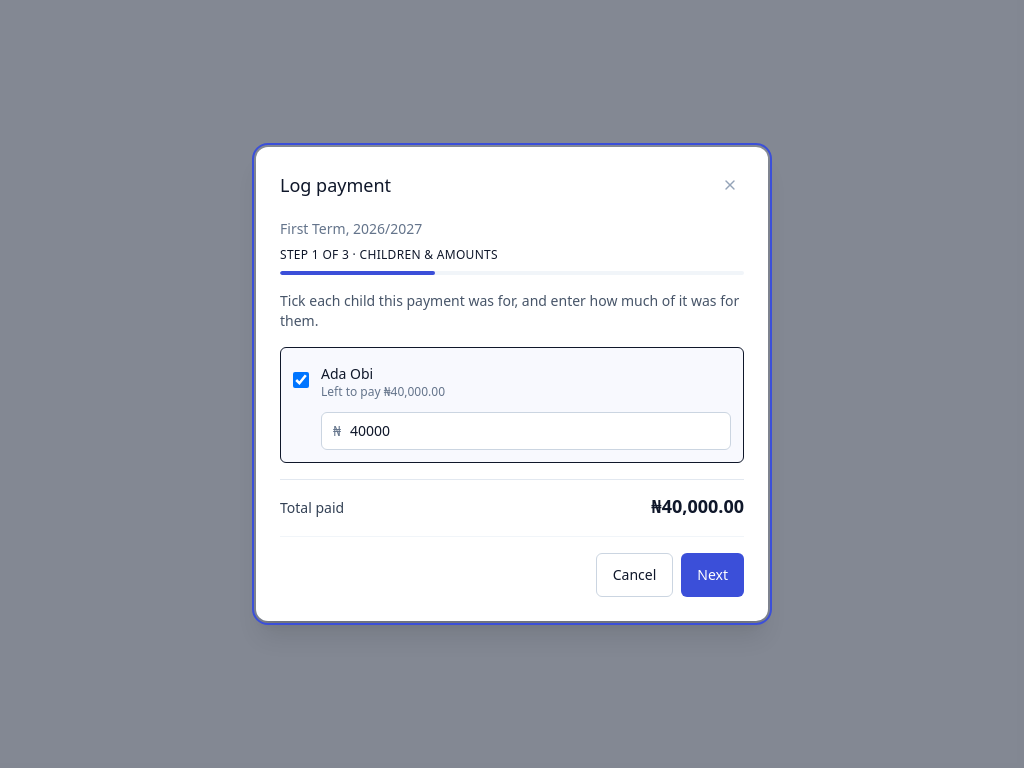
Test: LogPaymentSheet › warns on overpayment without blocking it
Replace the text in the field named "Amount for Ada Obi" with "50000" at (526, 431), box [321,412,731,450]
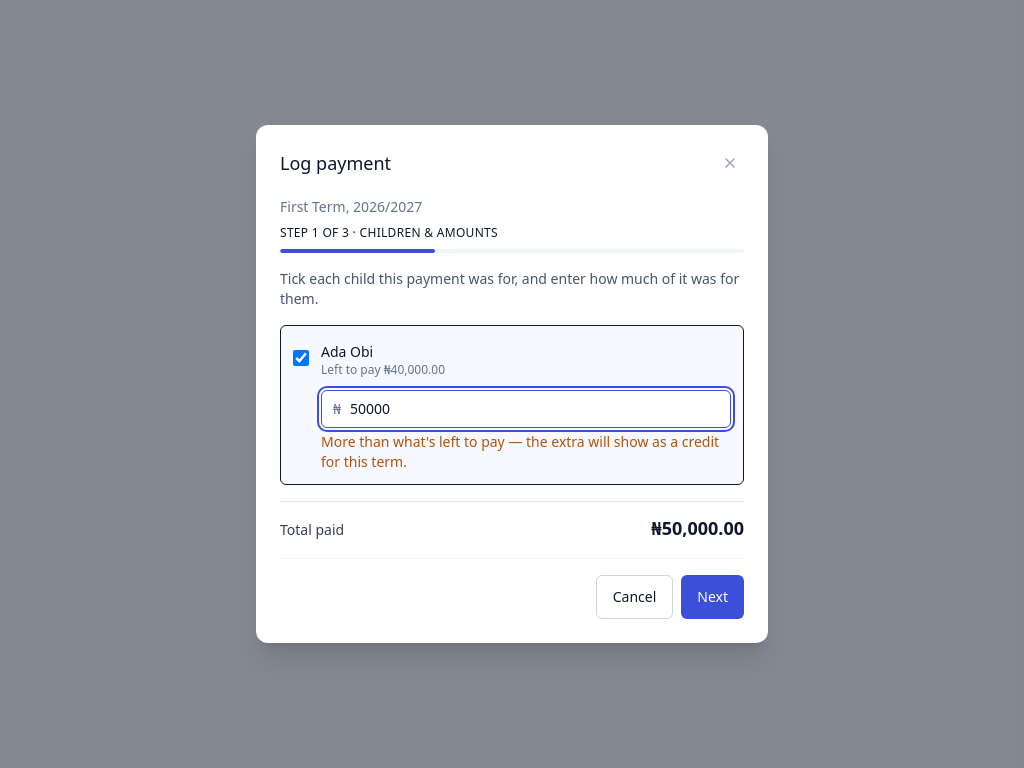
Expected: the text "the extra will show as a credit" is shown, [321,432,719,471]
Expected: the button "Next" is enabled, [681,575,744,619]
